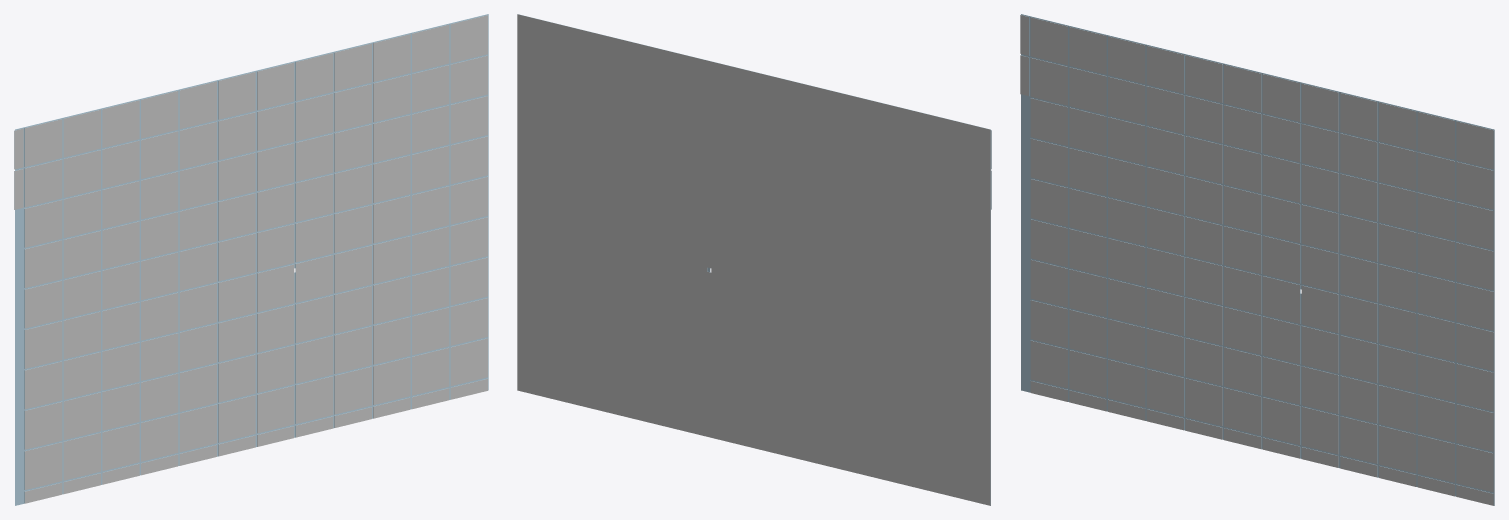
Rendered from floor.obj.
The picture shows the model from 3 angles, left to right: view 1: azimuth 30°, elevation 25°; view 2: azimuth 150°, elevation 25°; view 3: azimuth 330°, elevation 25°; orthographic projection.
Visible parts, largest first — view 1: mesh75, mesh570, mesh430, mesh450, mesh530, mesh85, mesh95, mesh145, mesh150, mesh160, mesh185, mesh215 (+97 smaller); view 2: mesh64; view 3: mesh75, mesh570, mesh360, mesh480, mesh85, mesh95, mesh100, mesh115, mesh145, mesh190, mesh200, mesh245 (+97 smaller).
Boxes of the visible parts, box(x1,y1,x2,y2) form: mesh75: box(15, 14, 488, 505); mesh570: box(450, 15, 487, 62); mesh430: box(373, 276, 410, 324); mesh450: box(102, 342, 139, 390); mesh530: box(102, 423, 139, 471); mesh85: box(373, 74, 410, 122); mesh95: box(450, 55, 487, 103); mesh145: box(412, 186, 449, 233); mesh150: box(373, 195, 410, 243); mesh160: box(179, 162, 216, 209); mesh185: box(412, 105, 449, 153); mesh215: box(218, 72, 255, 119); mesh64: box(517, 14, 990, 505); mesh75: box(1021, 14, 1494, 505); mesh570: box(1456, 121, 1493, 169); mesh360: box(1456, 363, 1493, 411); mesh480: box(1456, 444, 1493, 492); mesh85: box(1379, 143, 1416, 190); mesh95: box(1456, 161, 1493, 209); mesh100: box(1340, 133, 1377, 180); mesh115: box(1069, 27, 1106, 74); mesh145: box(1417, 273, 1454, 321); mesh190: box(1379, 183, 1416, 230); mesh200: box(1108, 36, 1145, 83); mesh245: box(1146, 167, 1183, 214).
Bounding box in the file's own units: 0.3316 × 0.2516 × 0.000508.
